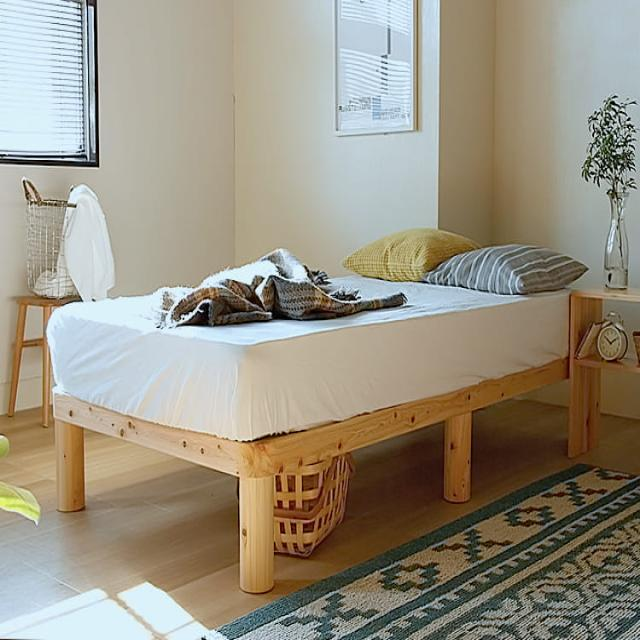bed vintage: (25, 224, 593, 597)
